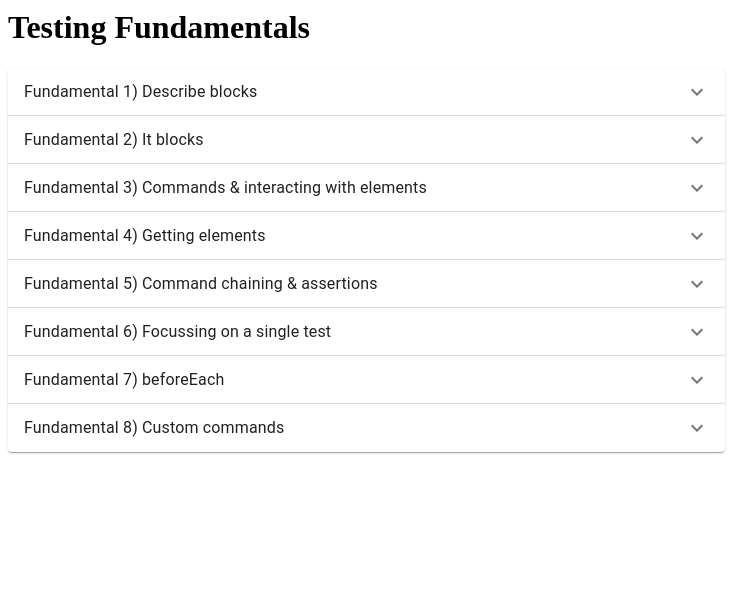
Test: Fundamentals test › Accordion works correctly
The image size is (743, 599).
expect the text "Your tests will exist in a describe block." is not shown: met
What coordinates should you click on to do the following:
click the button "Fundamental 1) Describe blocks"
I would click on:
 (141, 91)
Its box is left=24, top=80, right=709, bottom=104.
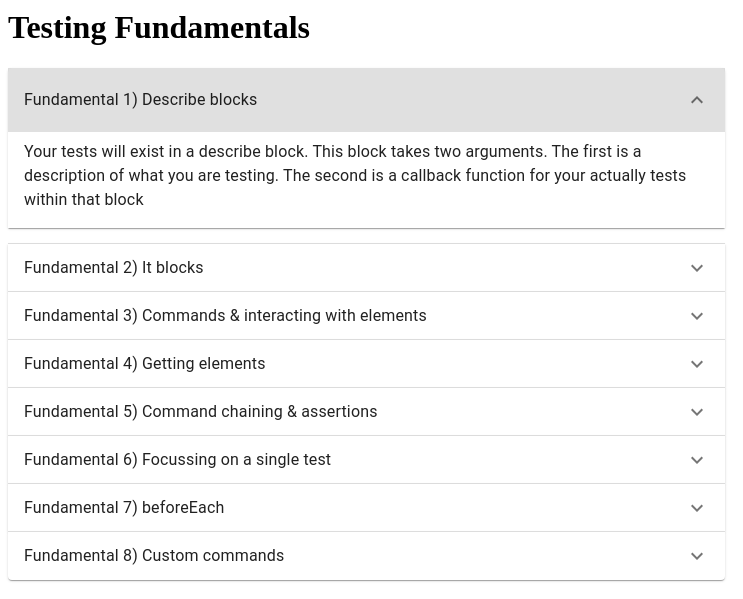
expect the text "Your tests will exist in a describe block." is shown: met, box left=24, top=140, right=709, bottom=212
What coordinates should you click on to do the following:
click the button "Fundamental 1) Describe blocks"
I would click on:
 (141, 99)
Its box is left=8, top=68, right=725, bottom=132.
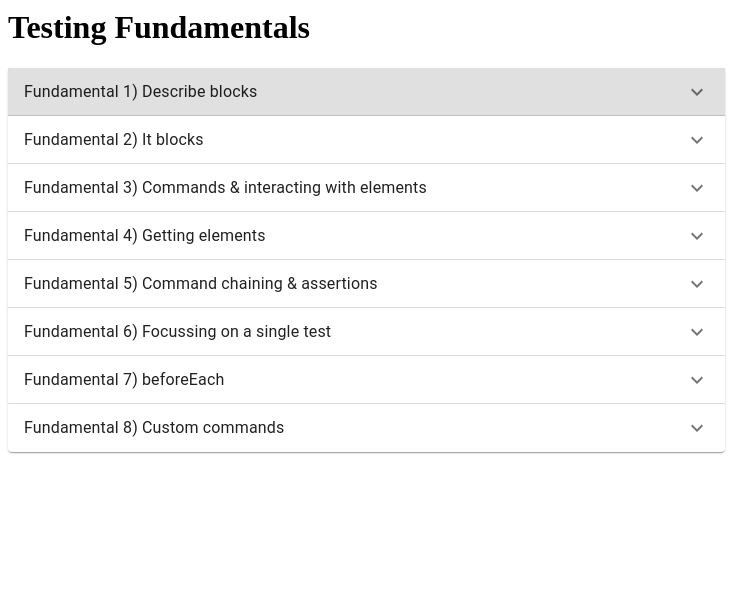
expect the text "Your tests will exist in a describe block." is gone: met
